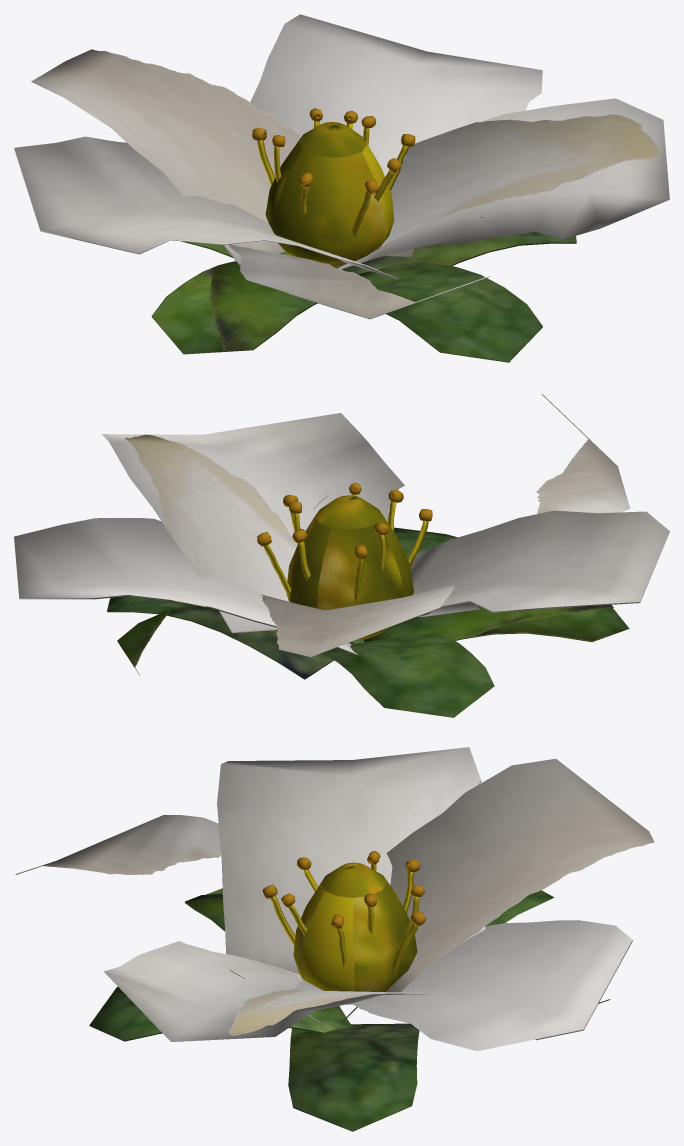
3 renders of one model, top to bottom at view 1: azimuth 30°, elevation 25°; view 2: azimuth 150°, elevation 25°; view 3: azimuth 270°, elevation 25°, orthographic. The views are drawn at different scales.
Visible parts, largest first — view 1: leaf3; view 2: leaf3; view 3: leaf3.
Part boxes in pixels (bbox=[...]): leaf3: bbox=[14, 14, 669, 362]; leaf3: bbox=[14, 394, 669, 717]; leaf3: bbox=[15, 747, 654, 1131].
Bounding box in the file's own units: 0.0529 × 0.0534 × 0.0154.
